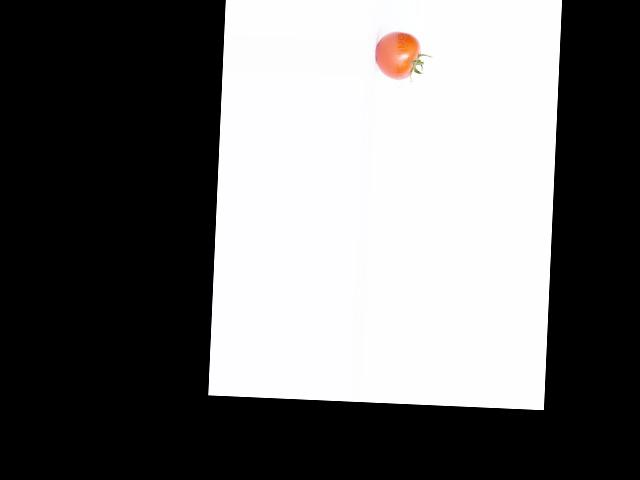tomato: (375, 30, 421, 80)
